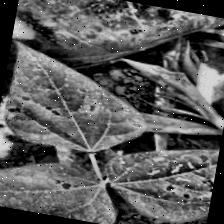ALS: (0, 36, 143, 160), (105, 128, 219, 224), (0, 147, 120, 224)
